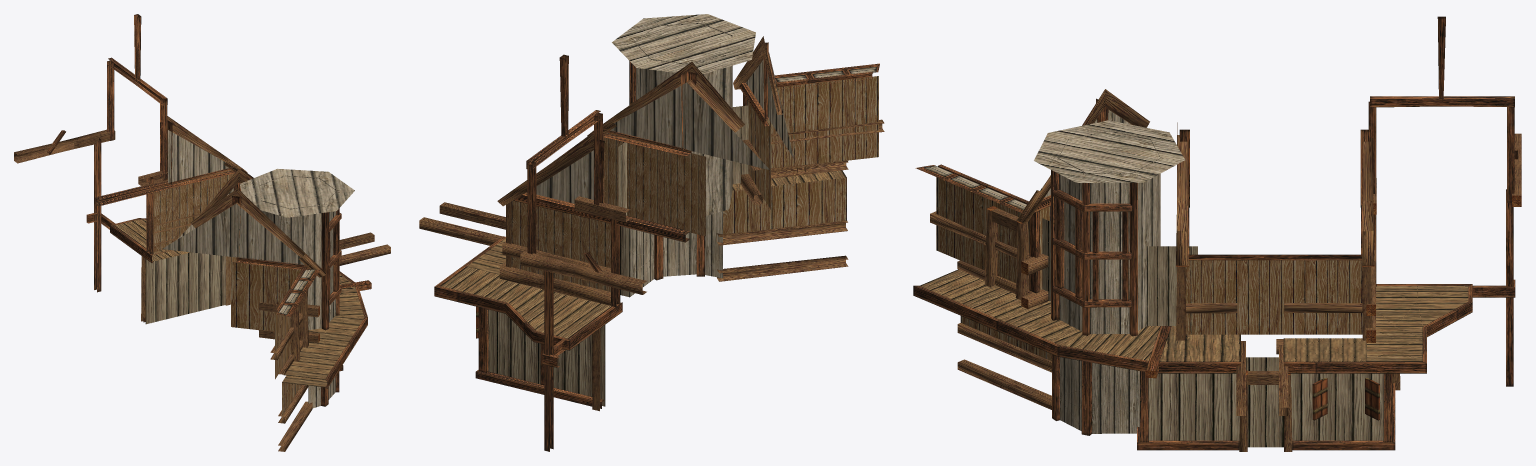
Rendered from LAKETOWN_EXTERIOR_PS_LT_UPPERCOTTAGE76__GX.fbx.
3 renders of one model, left to right at view 1: azimuth 30°, elevation 25°; view 2: azimuth 150°, elevation 25°; view 3: azimuth 270°, elevation 25°, orthographic. The views are drawn at different scales.
Visible parts, largest first — view 1: LAKETOWN_EXTERIOR_PS_LT_UPPERCOTTAGE76__GX; view 2: LAKETOWN_EXTERIOR_PS_LT_UPPERCOTTAGE76__GX; view 3: LAKETOWN_EXTERIOR_PS_LT_UPPERCOTTAGE76__GX.
Part boxes in pixels (x1=…): LAKETOWN_EXTERIOR_PS_LT_UPPERCOTTAGE76__GX: x1=14, y1=14, x2=390, y2=451; LAKETOWN_EXTERIOR_PS_LT_UPPERCOTTAGE76__GX: x1=419, y1=14, x2=884, y2=451; LAKETOWN_EXTERIOR_PS_LT_UPPERCOTTAGE76__GX: x1=913, y1=16, x2=1521, y2=451.
Bounding box in the file's own units: 126374 × 131555 × 191052.
Materials: 11 (11 with a texture image).
